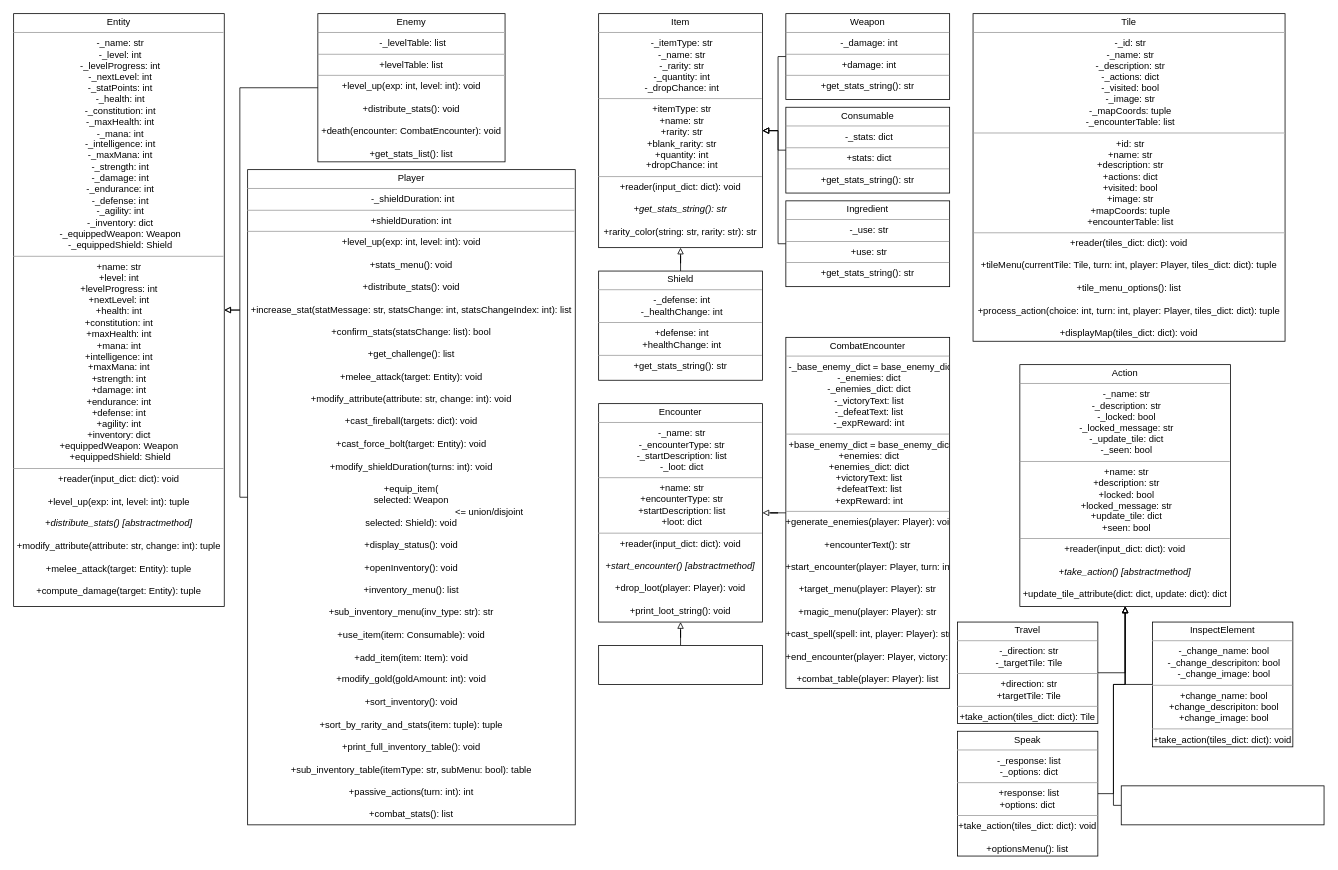
Some shapes in this 1338 by 870 pixel diagram are drawn without their labels. Here are the shapes that lost their labels. From the top down, the centre of each, then its label:
At (x=680, y=664): "PassiveEncounter +start_encounter(player: Player): void".
At (x=1222, y=805): "Rest +take_action(tiles_dict: dict, player: Player): void".
